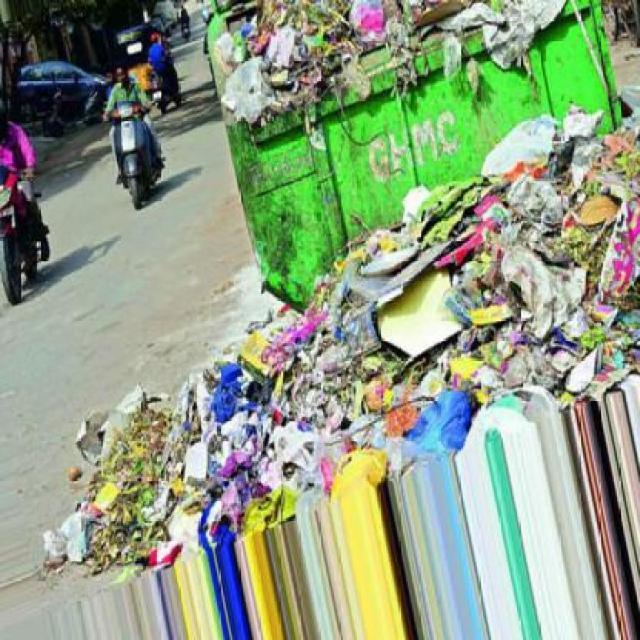garbage: (380, 151, 640, 368), (257, 299, 470, 415), (92, 400, 283, 501), (214, 11, 367, 101)
